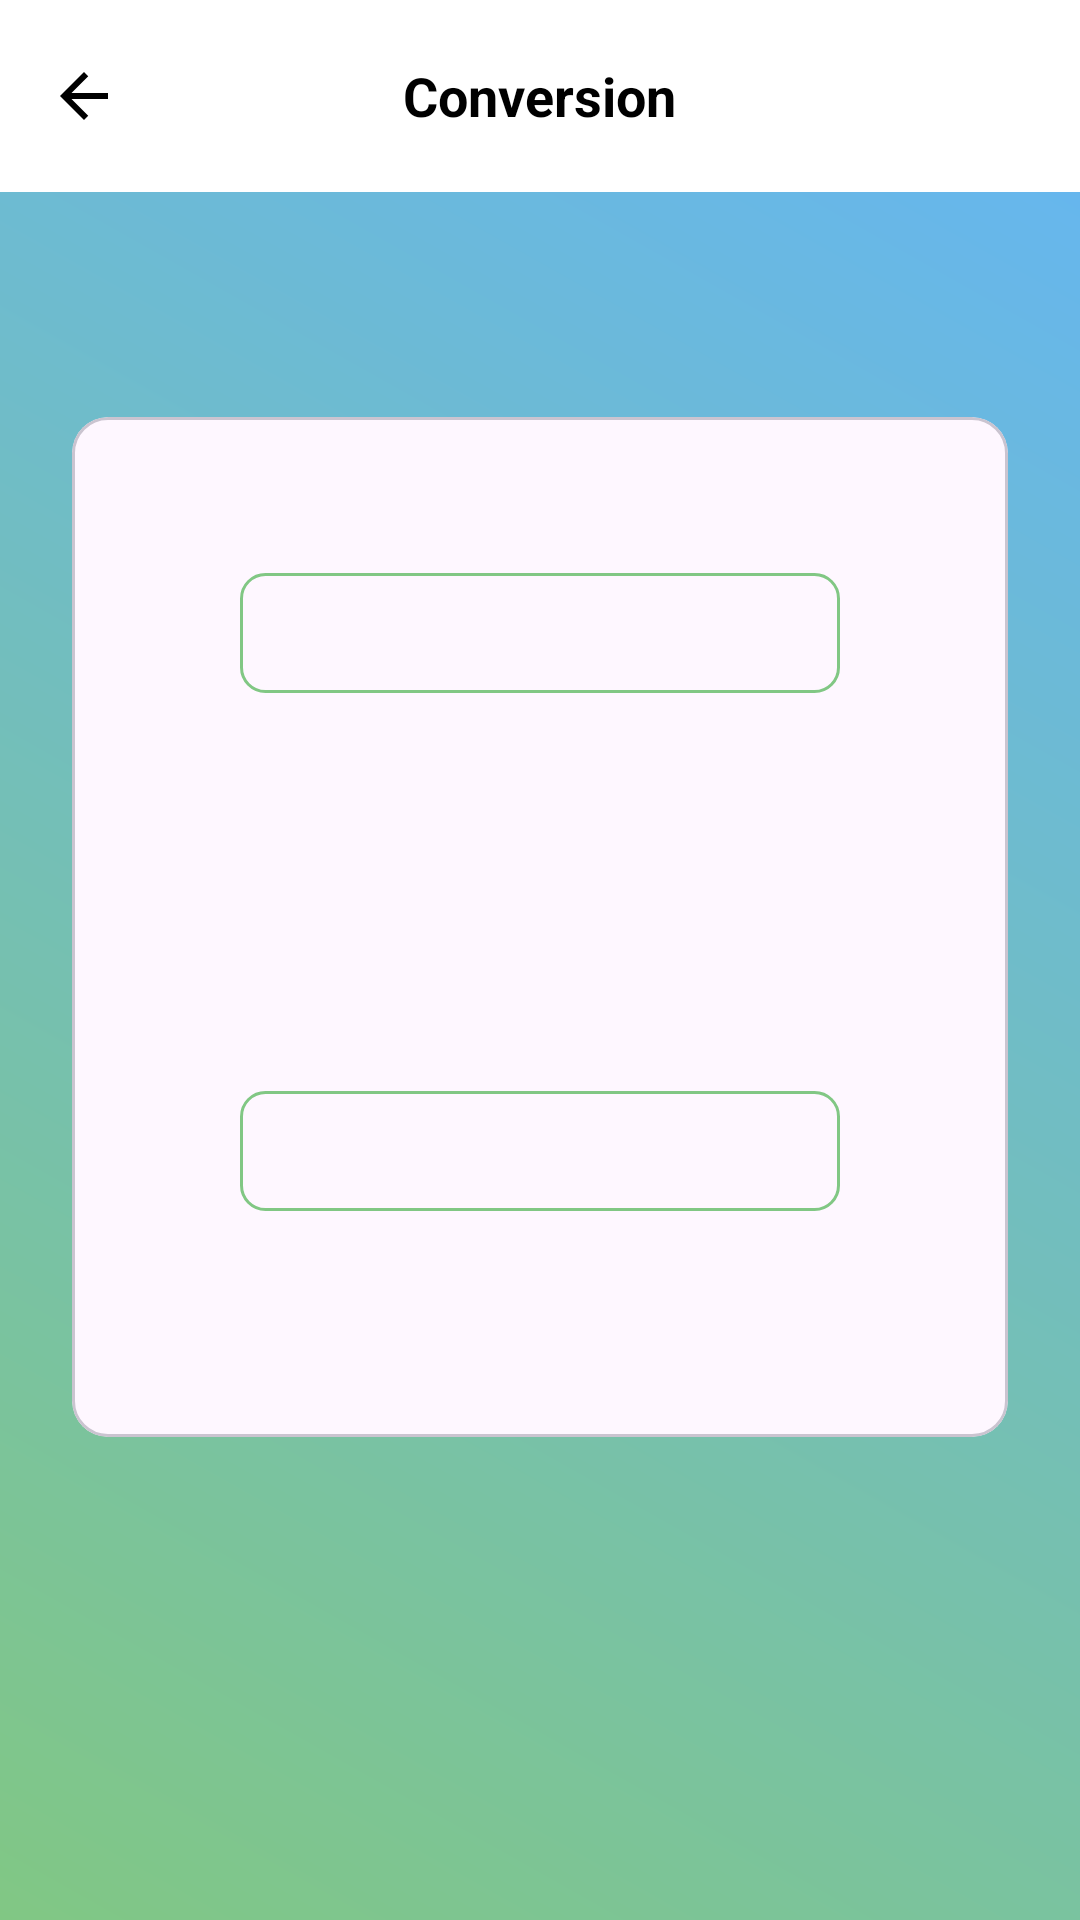

Icon click points for this 1080 × 1920 phone screenshot, format [x,y]:
arrow back: [84,96]
